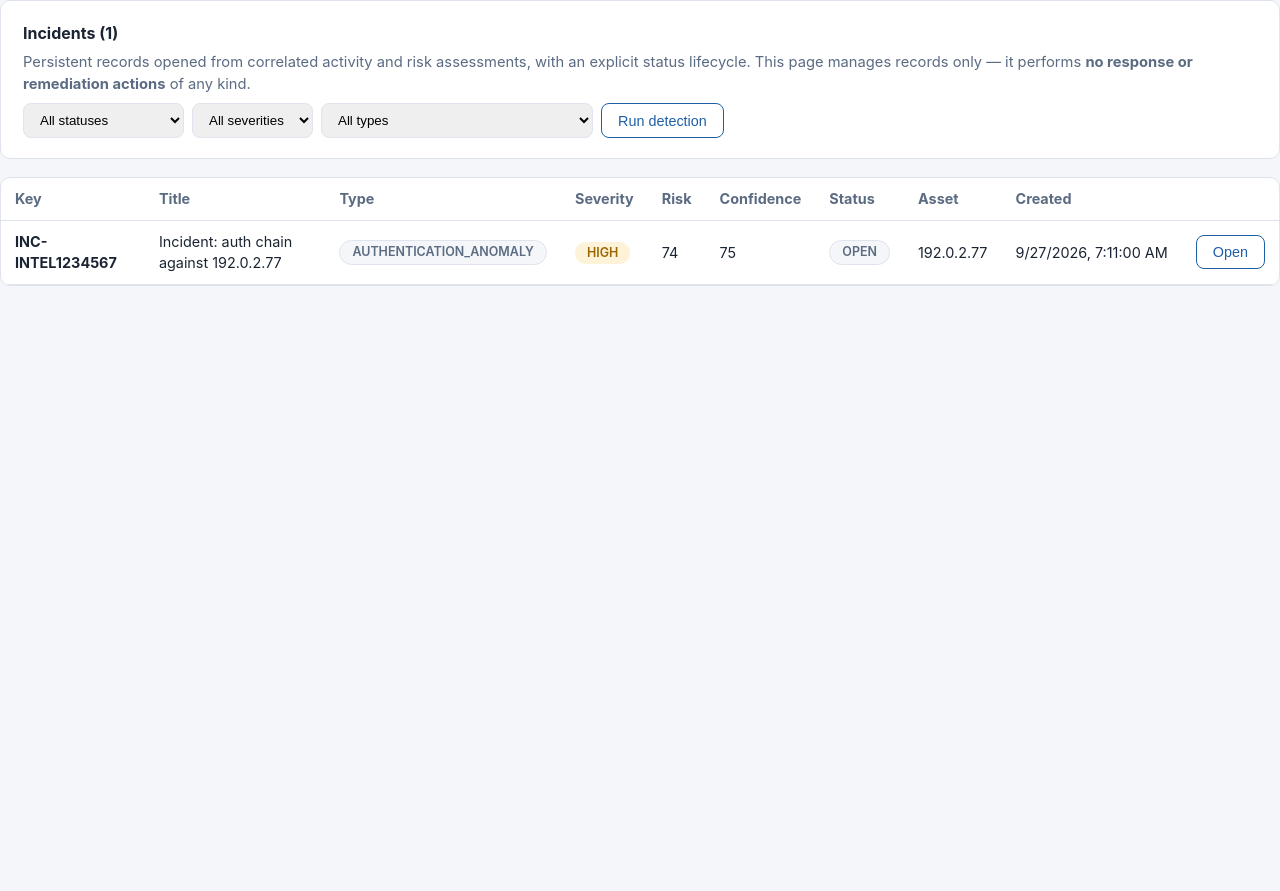
Test case: Security timeline (Phase 3, Step 35) › shows an error state and reloads the timeline on demand
Click the button "Open".
click(1230, 252)  # box [1196,235,1265,269]
(page scrolled)
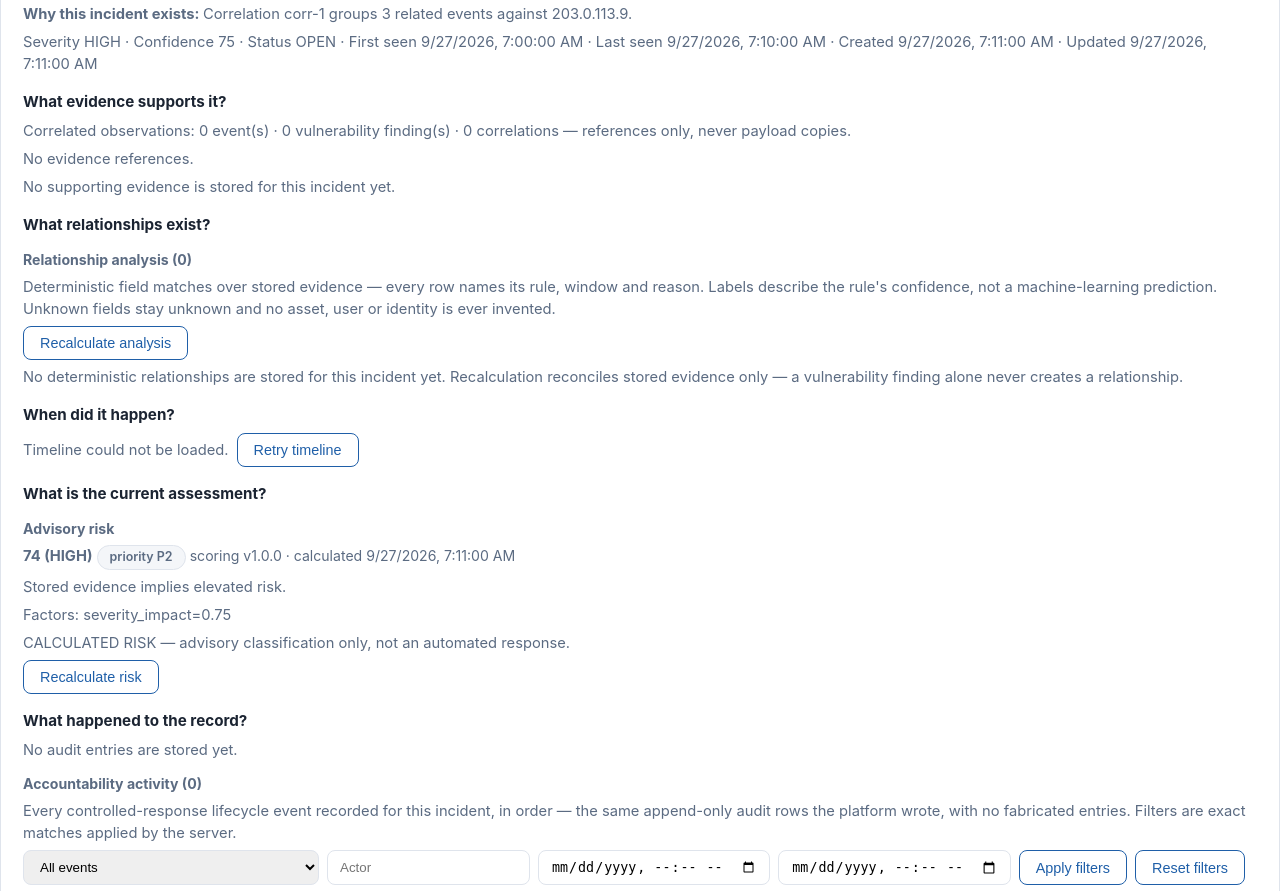
Expected: the text "Timeline (6)" is not shown
Result: the text "Timeline could not be loaded." is shown at [23,441,229,459]
Result: the heading "Relationship analysis (0)" is shown at [23,251,192,268]
Click the button "Retry timeline".
click(298, 450)  # box [237,433,359,467]
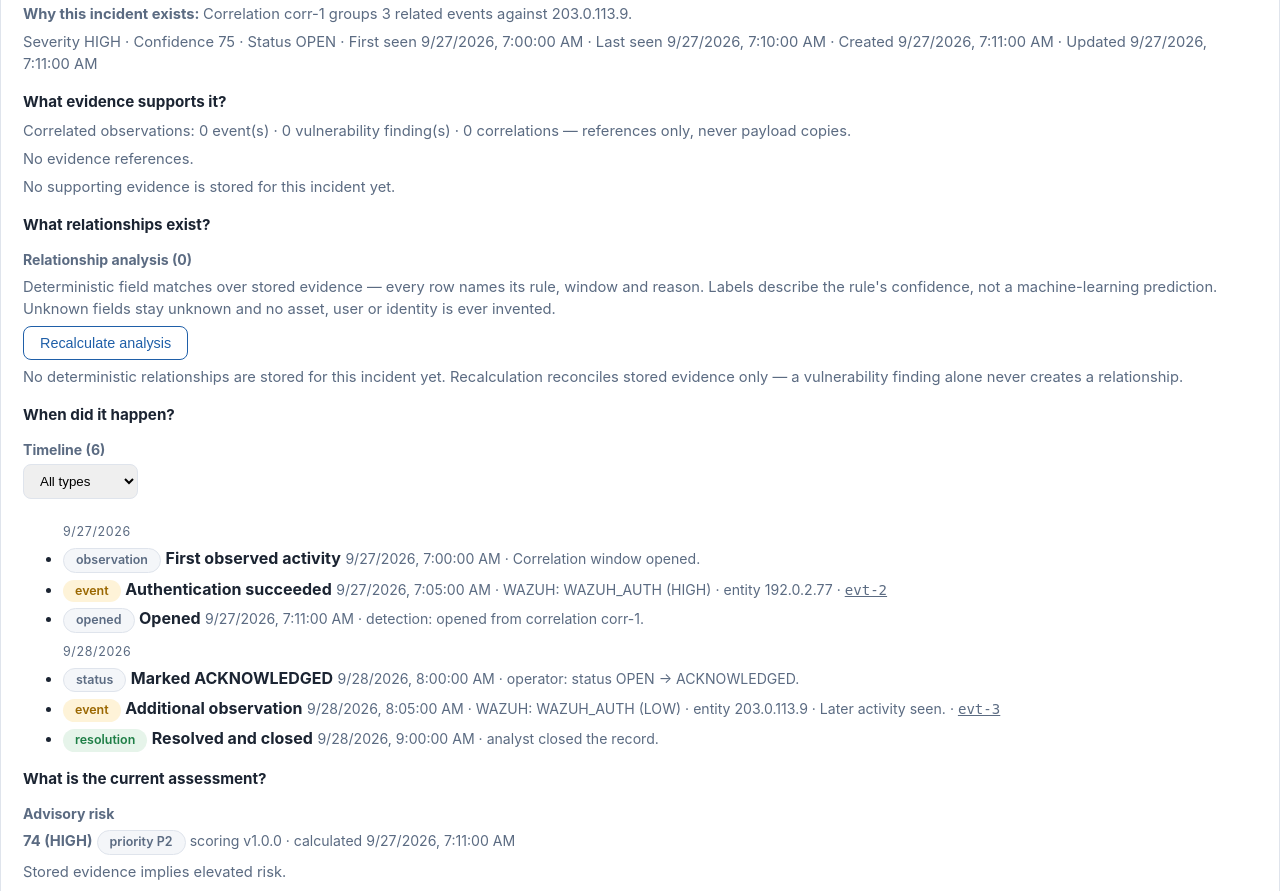
Result: the heading "Timeline (6)" is shown at [23,441,105,458]
